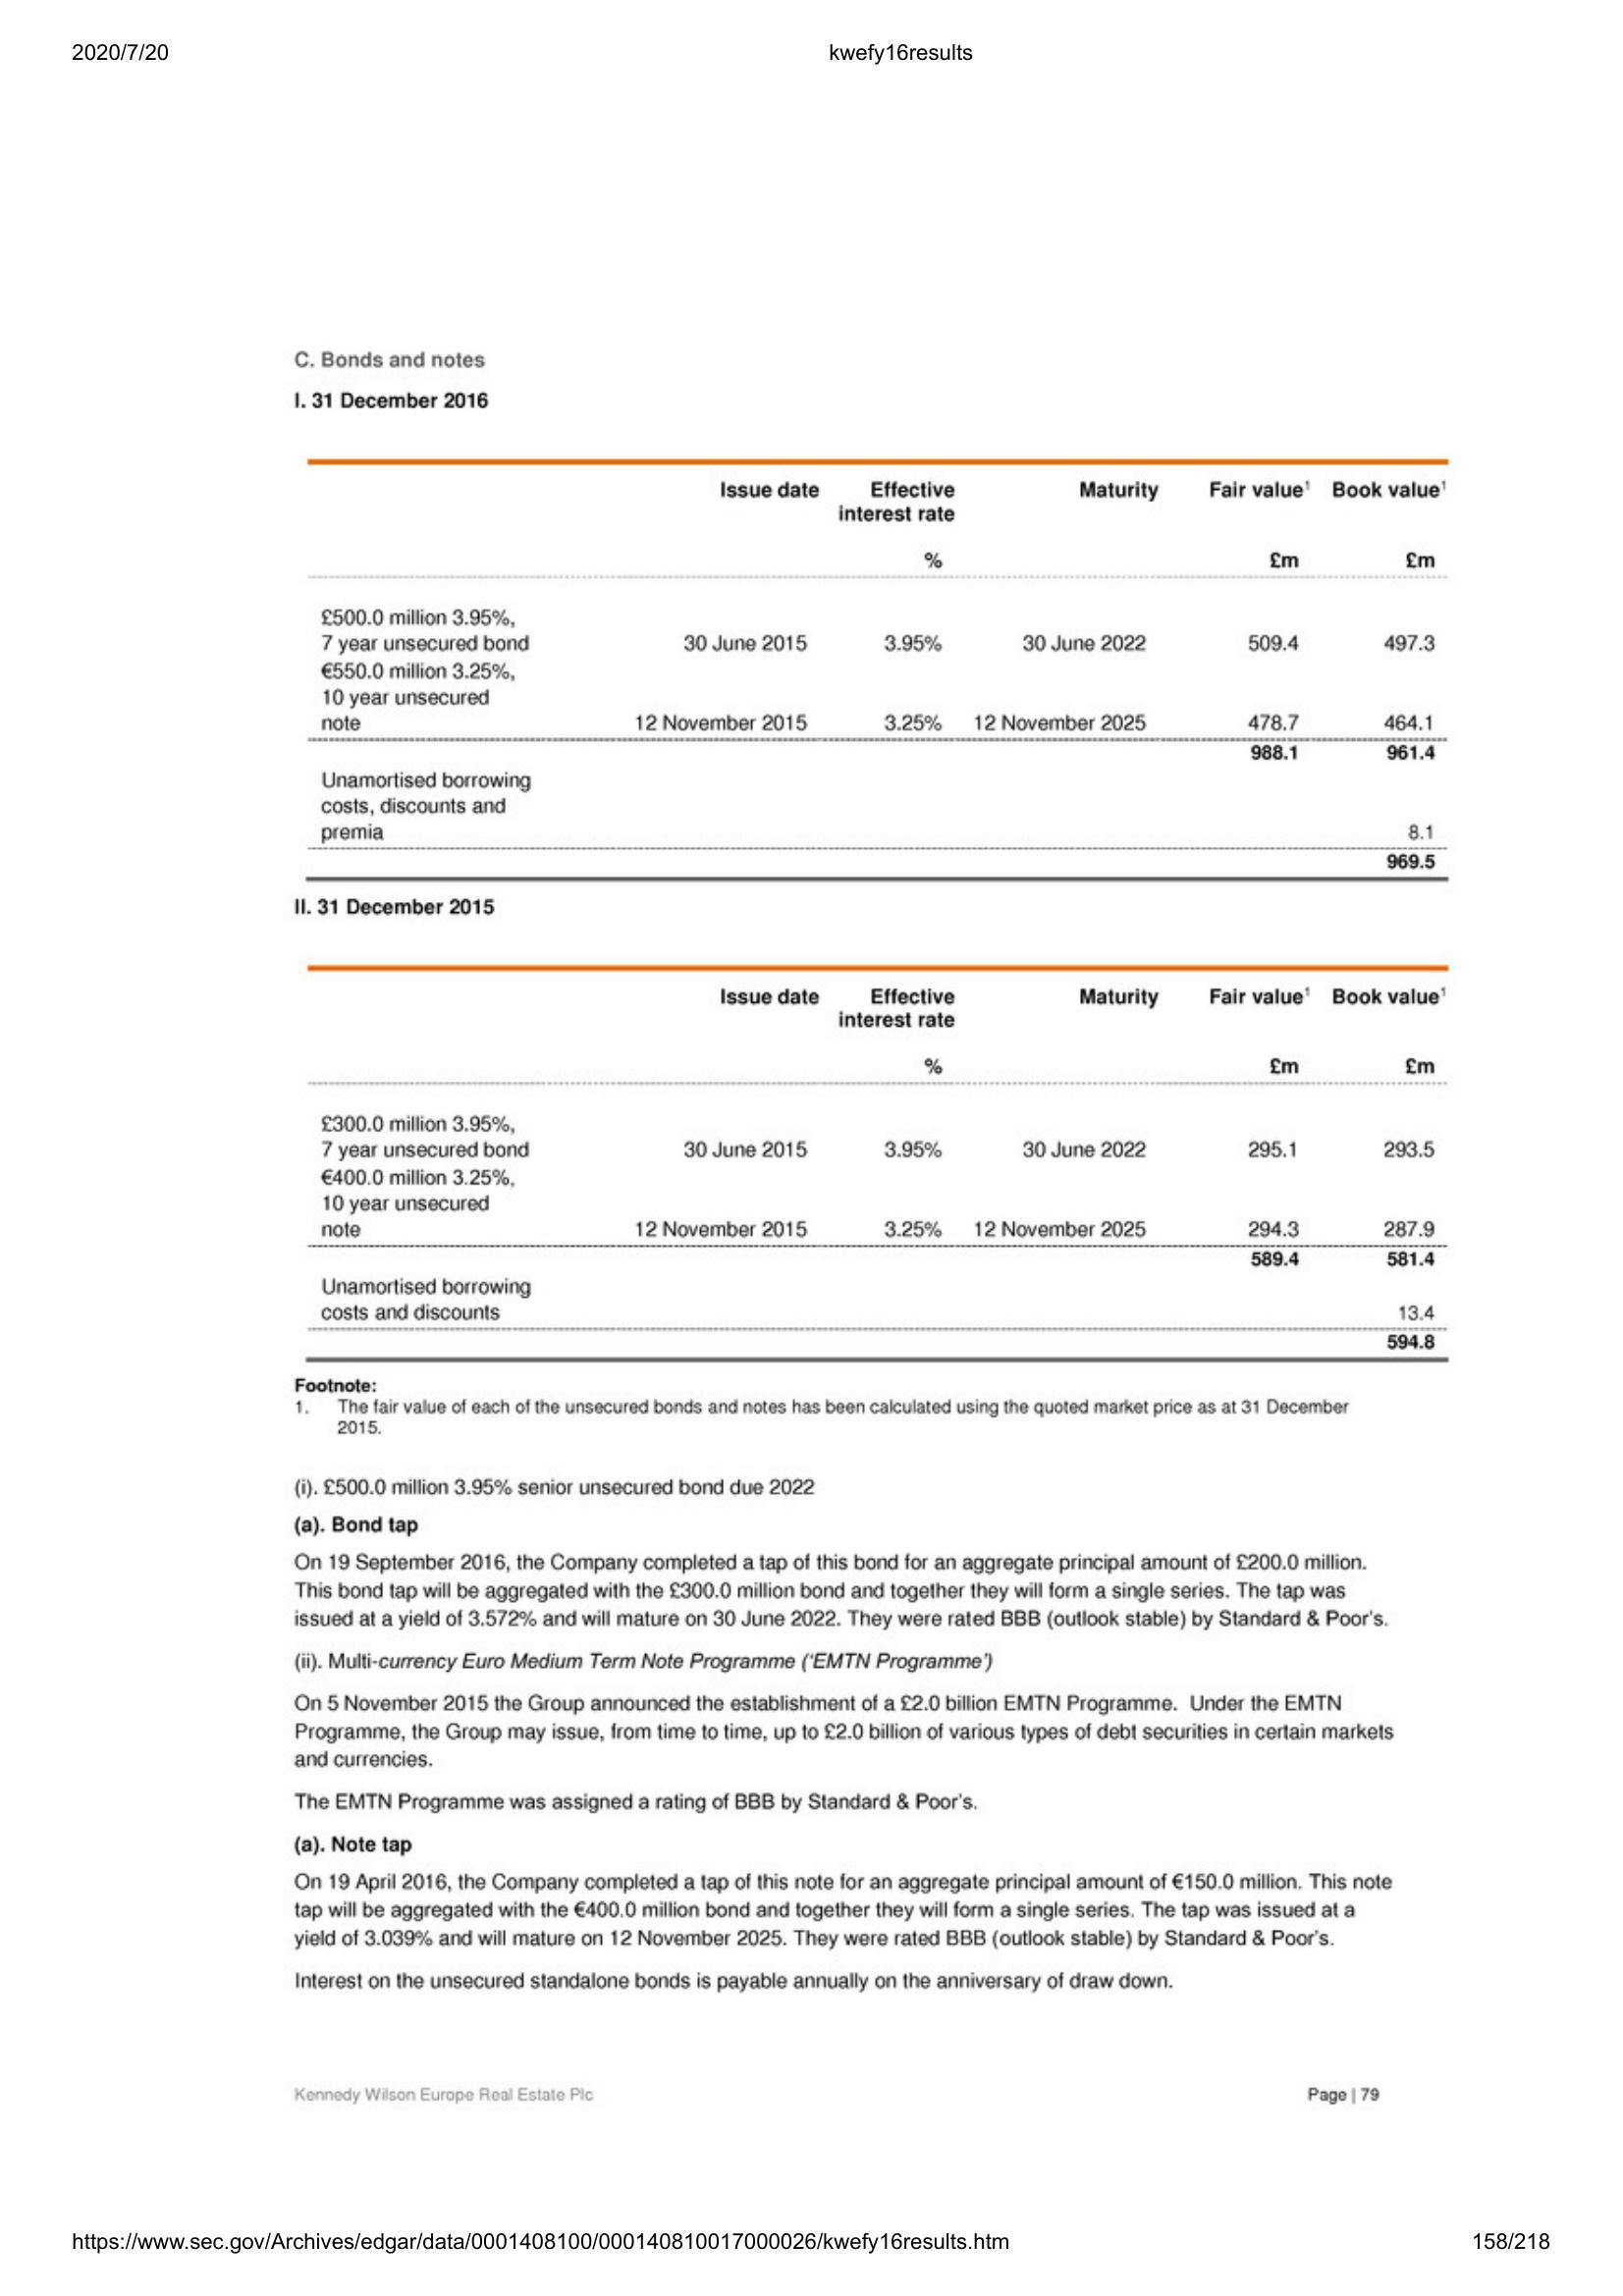table: (297, 456, 1461, 892), (304, 955, 1458, 1369)
